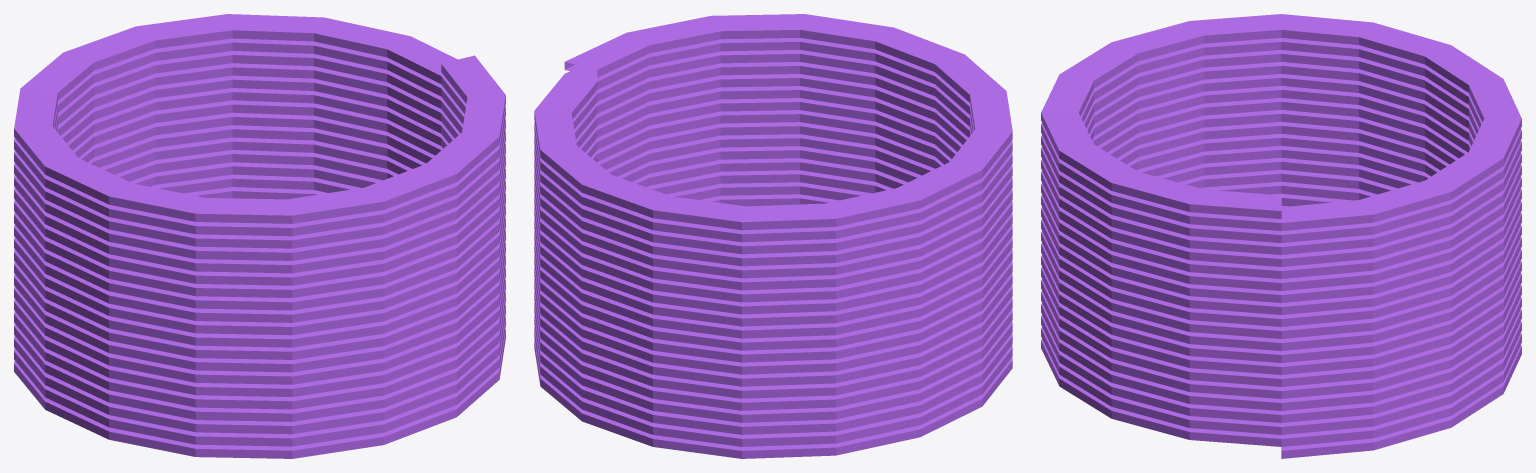
Rendered from resorte.fbx.
3 views of the same model, side by side, from view 1: azimuth 30°, elevation 25°; view 2: azimuth 150°, elevation 25°; view 3: azimuth 270°, elevation 25° (orthographic). The views are drawn at different scales.
Parts seen in each view (by area): view 1: Plane; view 2: Plane; view 3: Plane.
Part boxes in pixels (x1,y1,x2,y2): Plane: (14, 14, 505, 458); Plane: (534, 14, 1012, 458); Plane: (1041, 14, 1521, 458).
Size of the model in its own units: 218 by 124 by 218.
